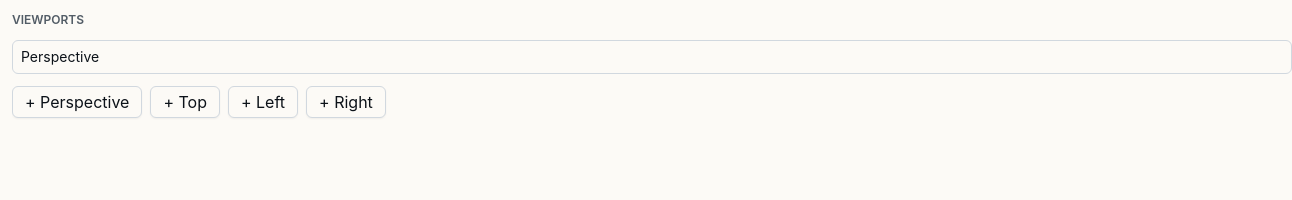
Scenario: SceneViewportManager › add duplicate Perspective shows numbered labels
What coordinates should you click on to do the following:
click the button "+ Perspective"
I would click on:
 (77, 102)
Its box is left=12, top=86, right=142, bottom=118.
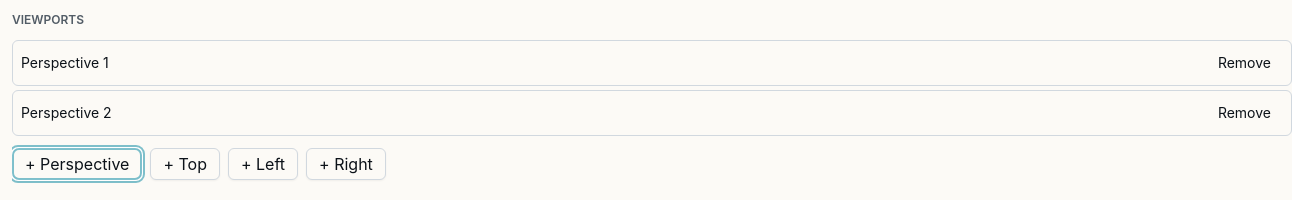
expect the element with test id "scene-viewport-manager" shows "Perspective 1": met, box left=21, top=54, right=109, bottom=71
expect the element with test id "scene-viewport-manager" shows "Perspective 2": met, box left=21, top=104, right=112, bottom=121
